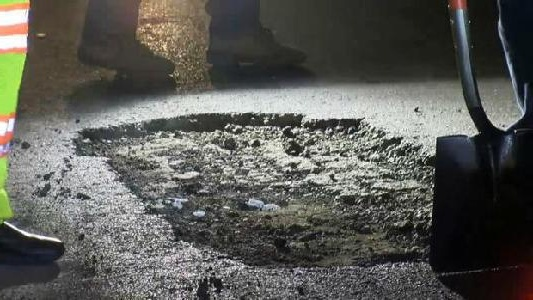pothole: (67, 109, 466, 267)
